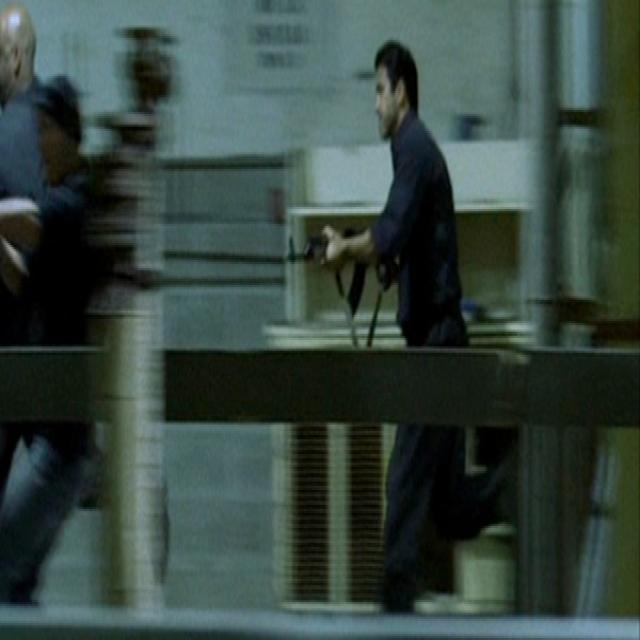rifle: (289, 221, 402, 297)
